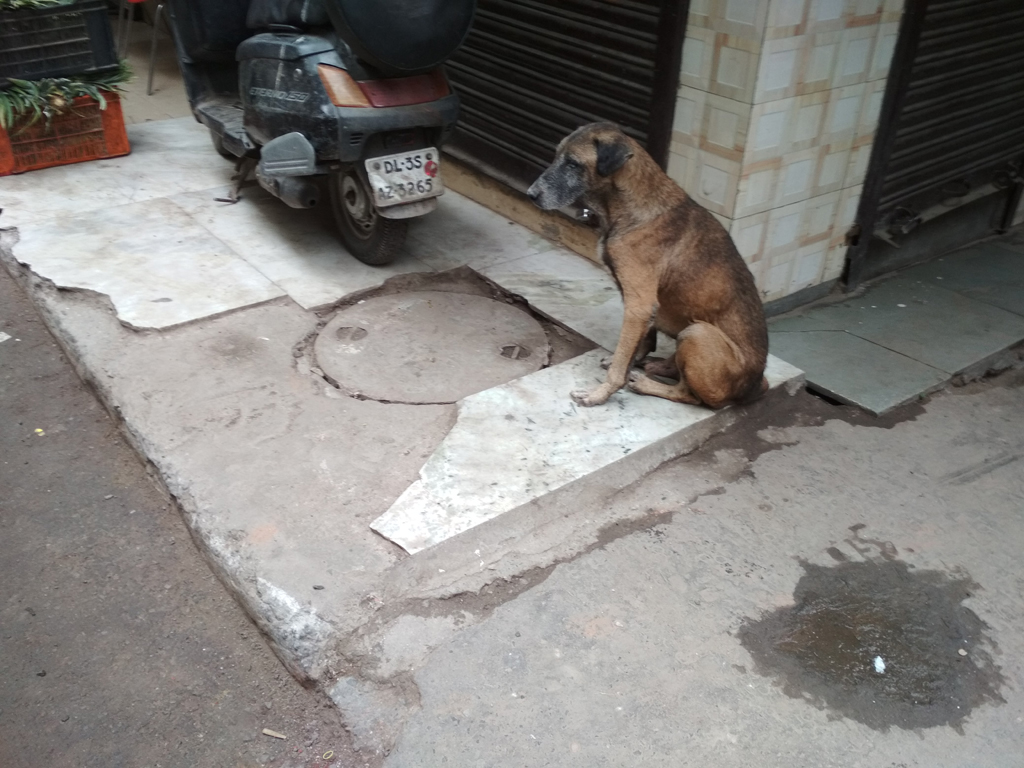dog: (527, 123, 769, 407)
